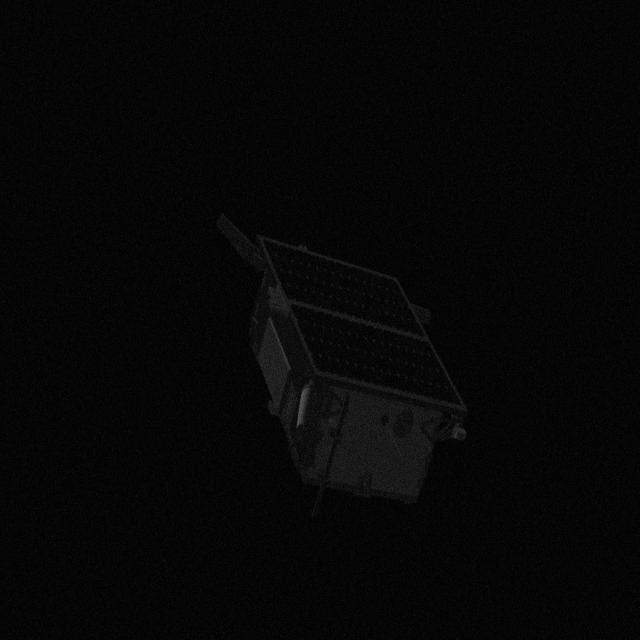satellite: (212, 198, 482, 510)
